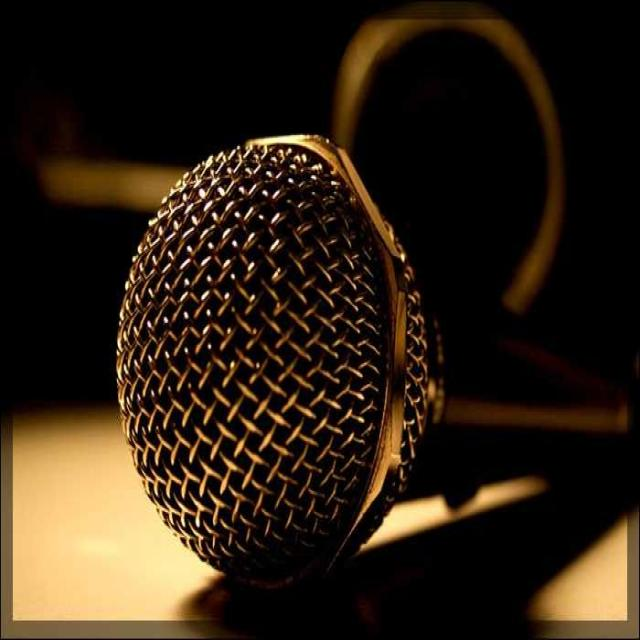microphone: (89, 2, 616, 594)
